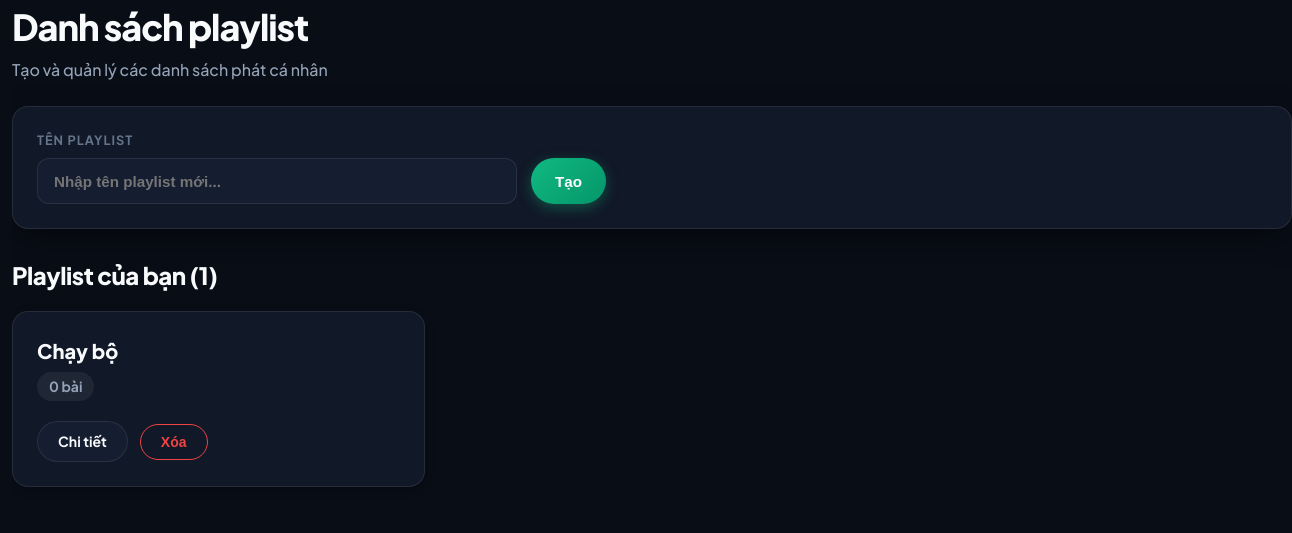
Test: PlaylistsPage › nhập tên trùng lặp không phân biệt hoa thường thì thấy "Tên playlist đã tồn tại"
The width and height of the screenshot is (1292, 533).
Type "chạy bộ" into the field labelled "Tên playlist".
click(277, 181); type("chạy bộ")  # box [37,158,517,204]
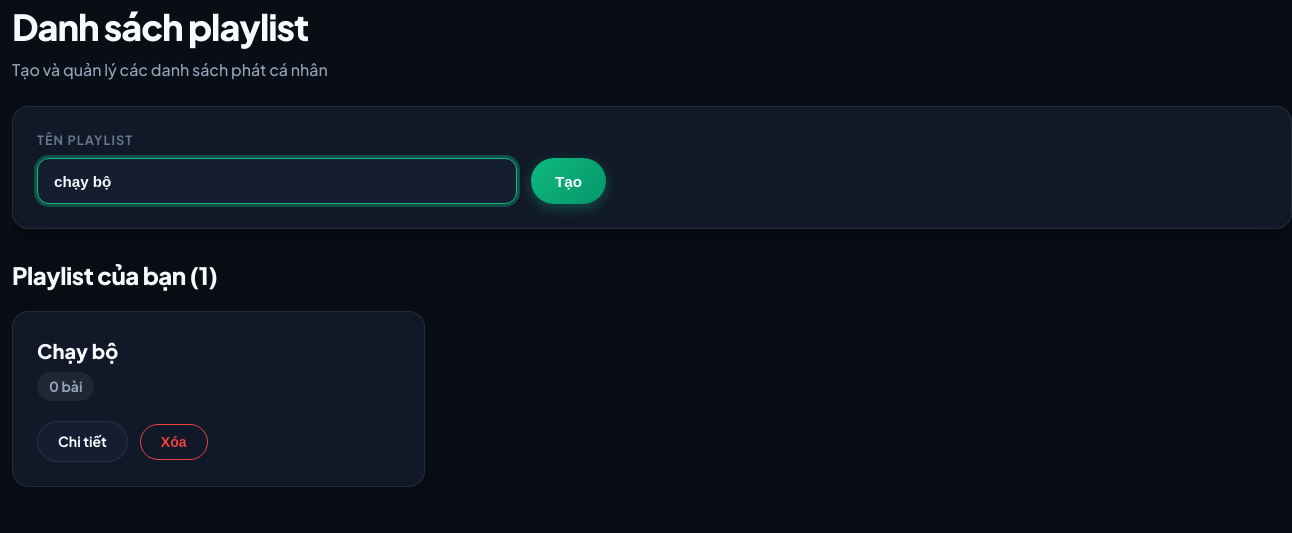
Click the button "Tạo".
click(568, 181)  # box [531,158,606,204]
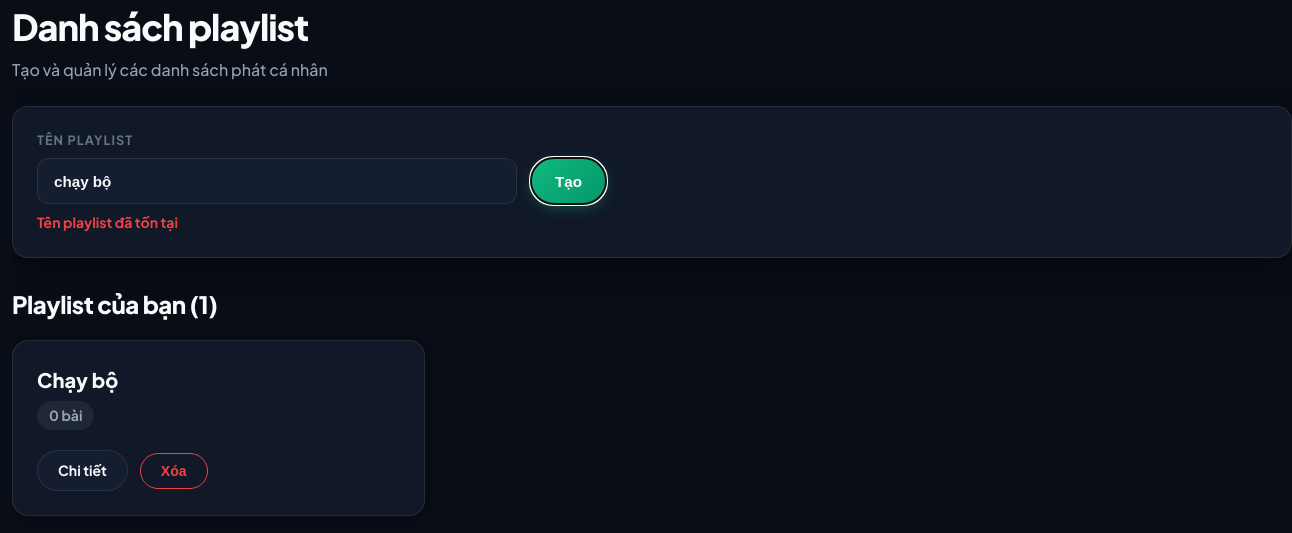
Check: the text "Tên playlist đã tồn tại" is shown, box [37,213,178,231]
